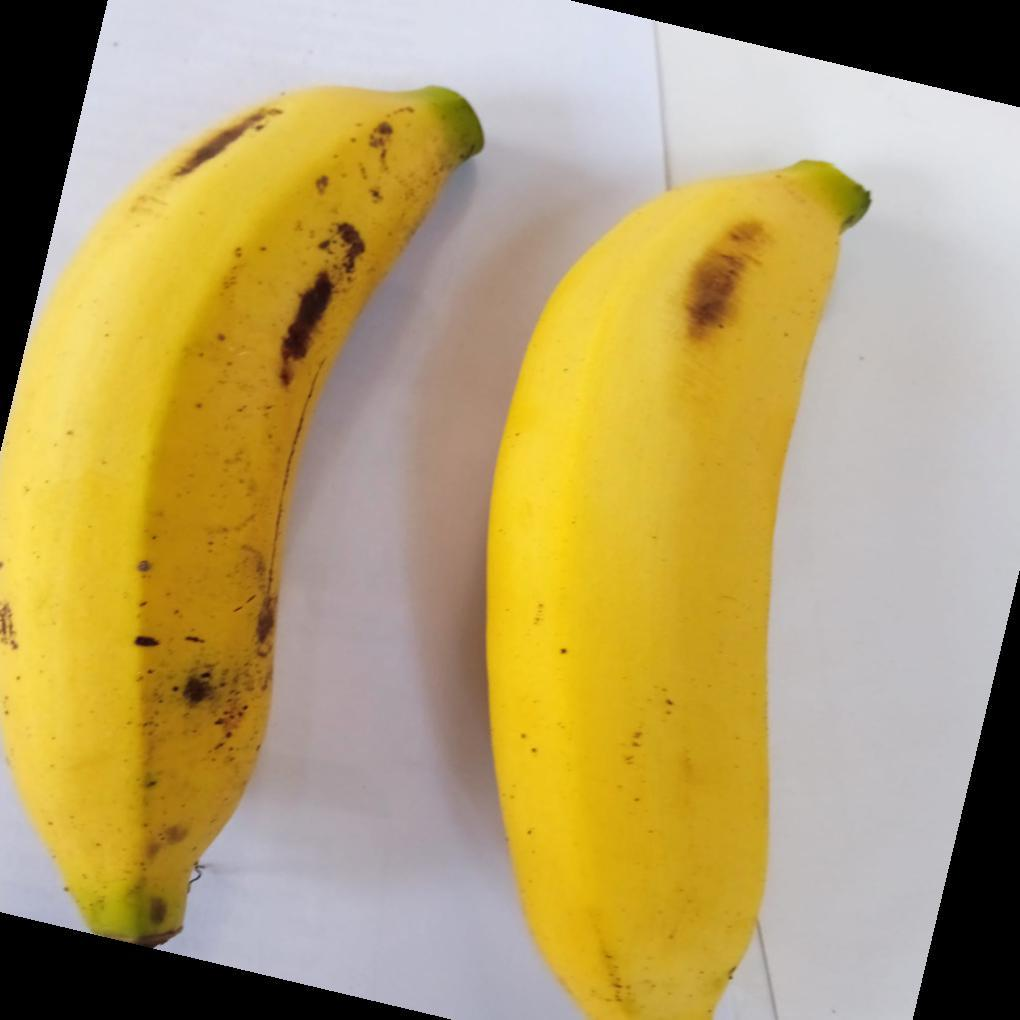Banana Ripe: (28, 44, 929, 1020), (0, 50, 486, 1020), (476, 118, 888, 1020)
